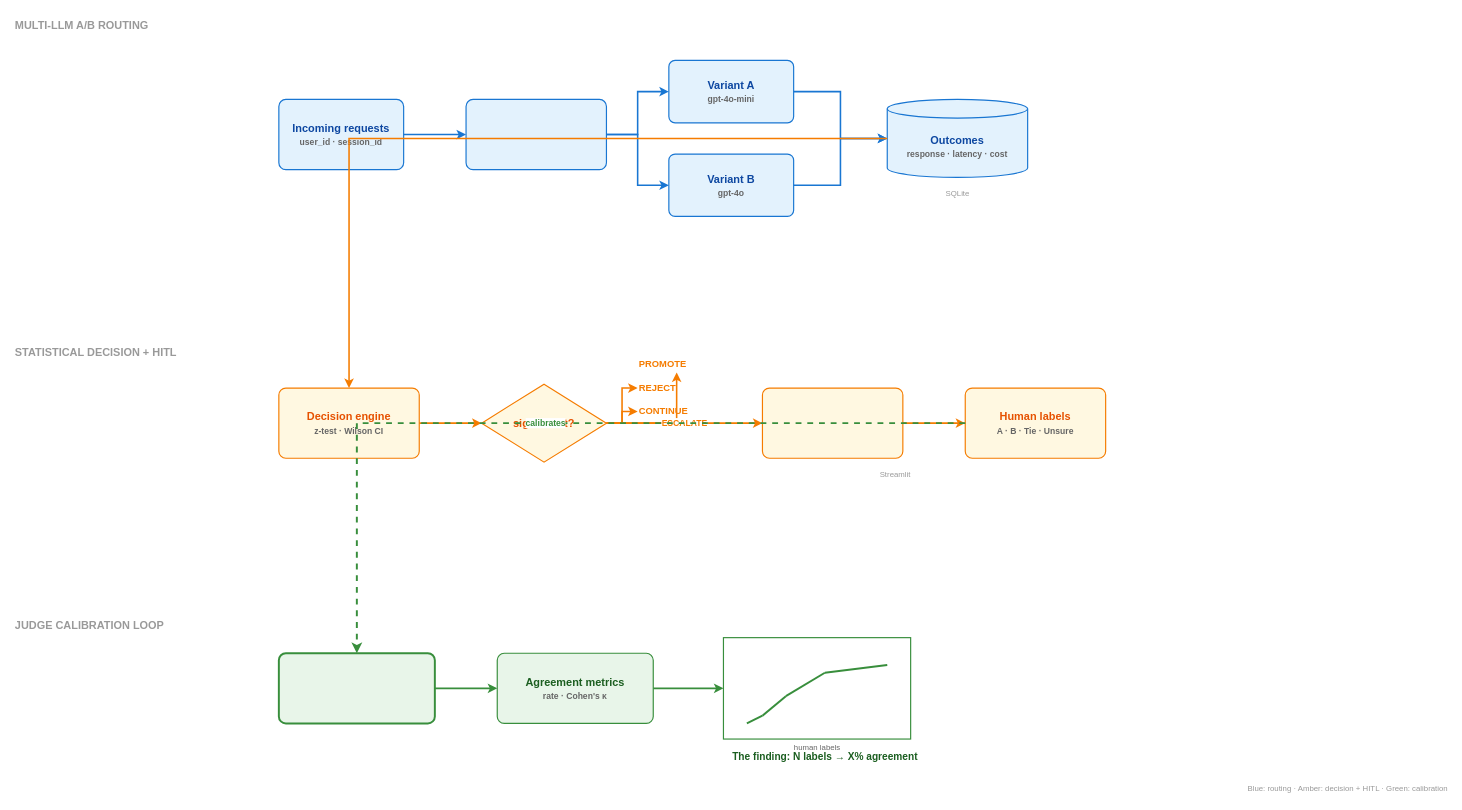
The diagram is 1462 pixels wide and 810 high, and some of its shapes have lost their labels. Each missing label, with the box of its shape:
agreement: (723, 637, 911, 739)
Deterministic hash hash(experiment_id + unit_id): (465, 99, 607, 170)
HITL review queue pending → labeled: (762, 387, 903, 458)
LLM judge separate model, not a variant: (278, 652, 435, 724)
